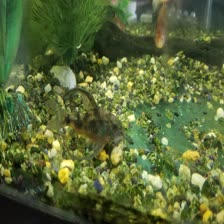Kiros: (44, 82, 142, 156)
